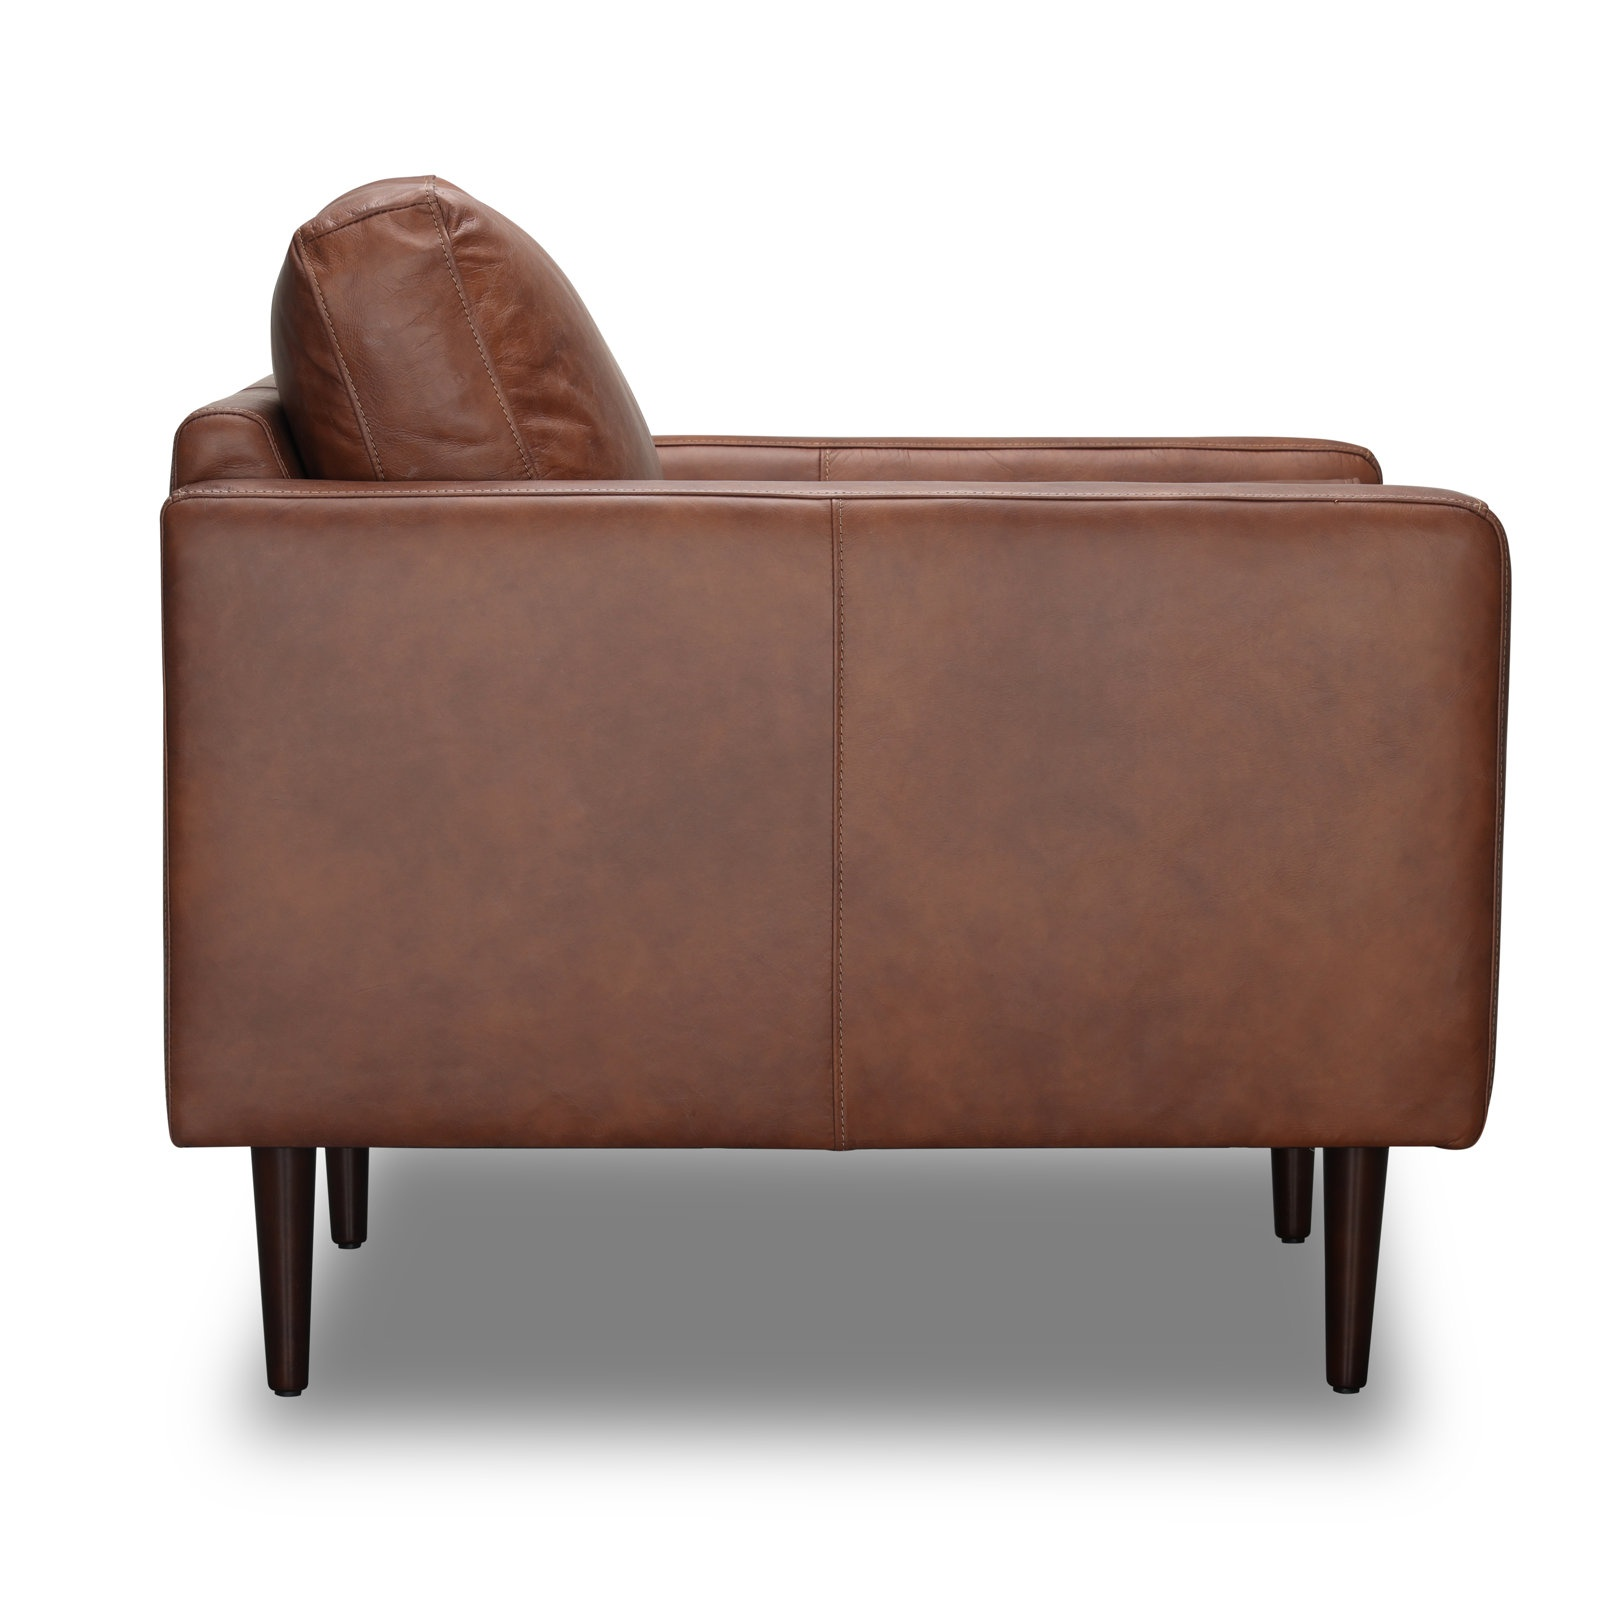obstacle: (163, 177, 1508, 1393)
